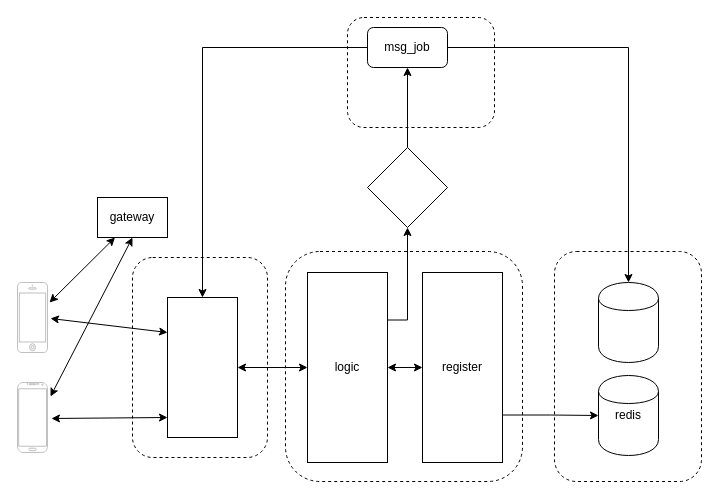
Some shapes in this 719 by 499 pixel diagram are drawn without their labels. Here are the shapes that lost their labels. From the top down, the centre of each, then its label:
the point at 407,187: Kafka
the point at 628,322: mongodb
the point at 202,367: access
